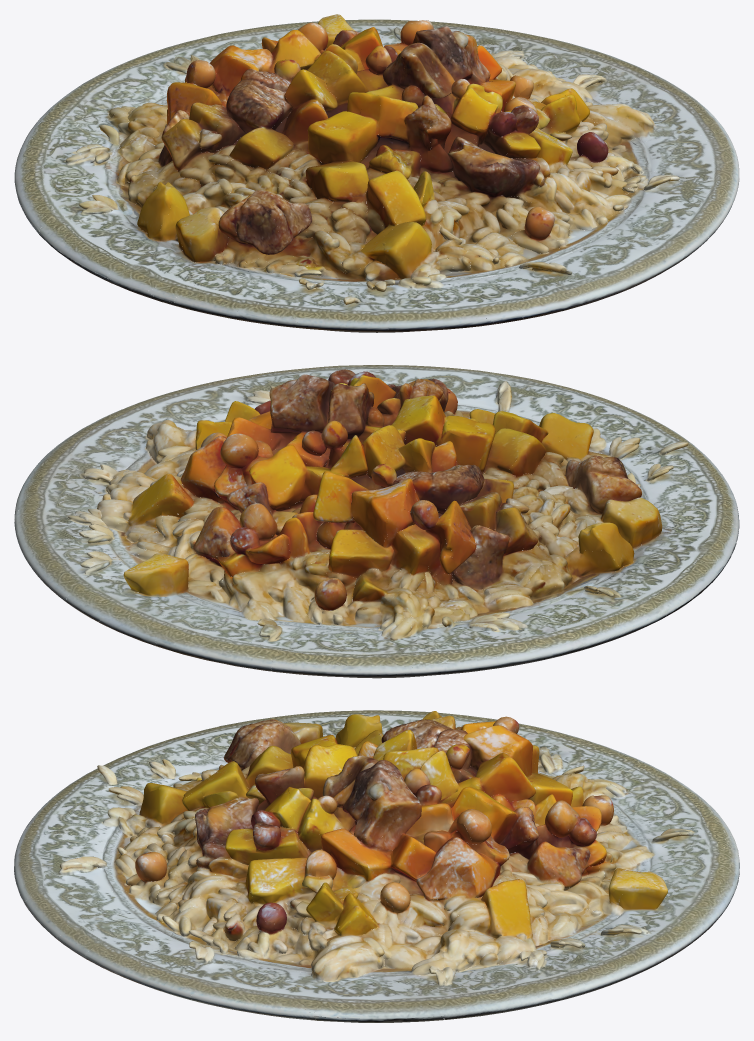
Rendered from osh.glb.
3 views of the same model, one above another, from view 1: azimuth 30°, elevation 25°; view 2: azimuth 150°, elevation 25°; view 3: azimuth 270°, elevation 25° (orthographic).
Visible parts, largest first — view 1: tripo_node_db5c0853-20b7-41e8-be67-8f20fe6dde0c; view 2: tripo_node_db5c0853-20b7-41e8-be67-8f20fe6dde0c; view 3: tripo_node_db5c0853-20b7-41e8-be67-8f20fe6dde0c.
Part boxes in pixels (x1,y1,x2,y2): tripo_node_db5c0853-20b7-41e8-be67-8f20fe6dde0c: (14,14,739,332); tripo_node_db5c0853-20b7-41e8-be67-8f20fe6dde0c: (14,365,739,678); tripo_node_db5c0853-20b7-41e8-be67-8f20fe6dde0c: (14,710,739,1022).
Size of the model in its own units: 0.9799 by 0.3095 by 0.9801.
Materials: 1 (1 with a texture image).
